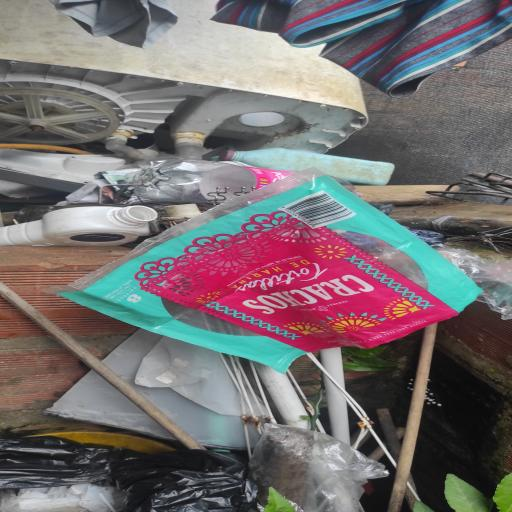ControlPlay4: (407, 228, 445, 247)
